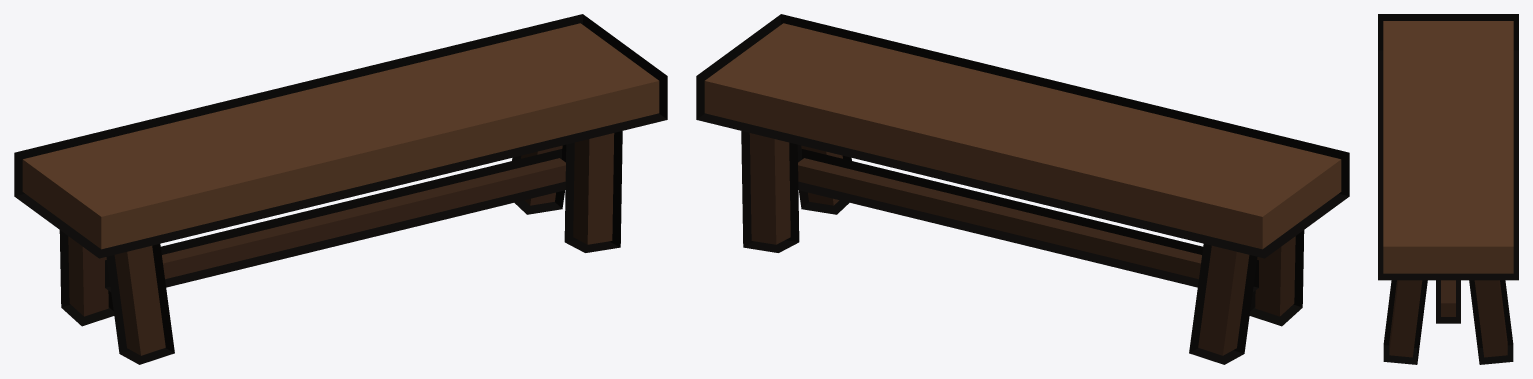
Rendered from bench.glb.
3 views of the same model, side by side, from view 1: azimuth 30°, elevation 25°; view 2: azimuth 150°, elevation 25°; view 3: azimuth 270°, elevation 25° (orthographic). The views are drawn at different scales.
Parts seen in each view (by area): view 1: Prop_town_bench; view 2: Prop_town_bench; view 3: Prop_town_bench.
Boxes of the visible parts, x1=… form: Prop_town_bench: x1=14, y1=14, x2=667, y2=364; Prop_town_bench: x1=696, y1=14, x2=1349, y2=364; Prop_town_bench: x1=1378, y1=14, x2=1518, y2=364.
Size of the model in its own units: 1.83 by 0.5152 by 0.4746.
